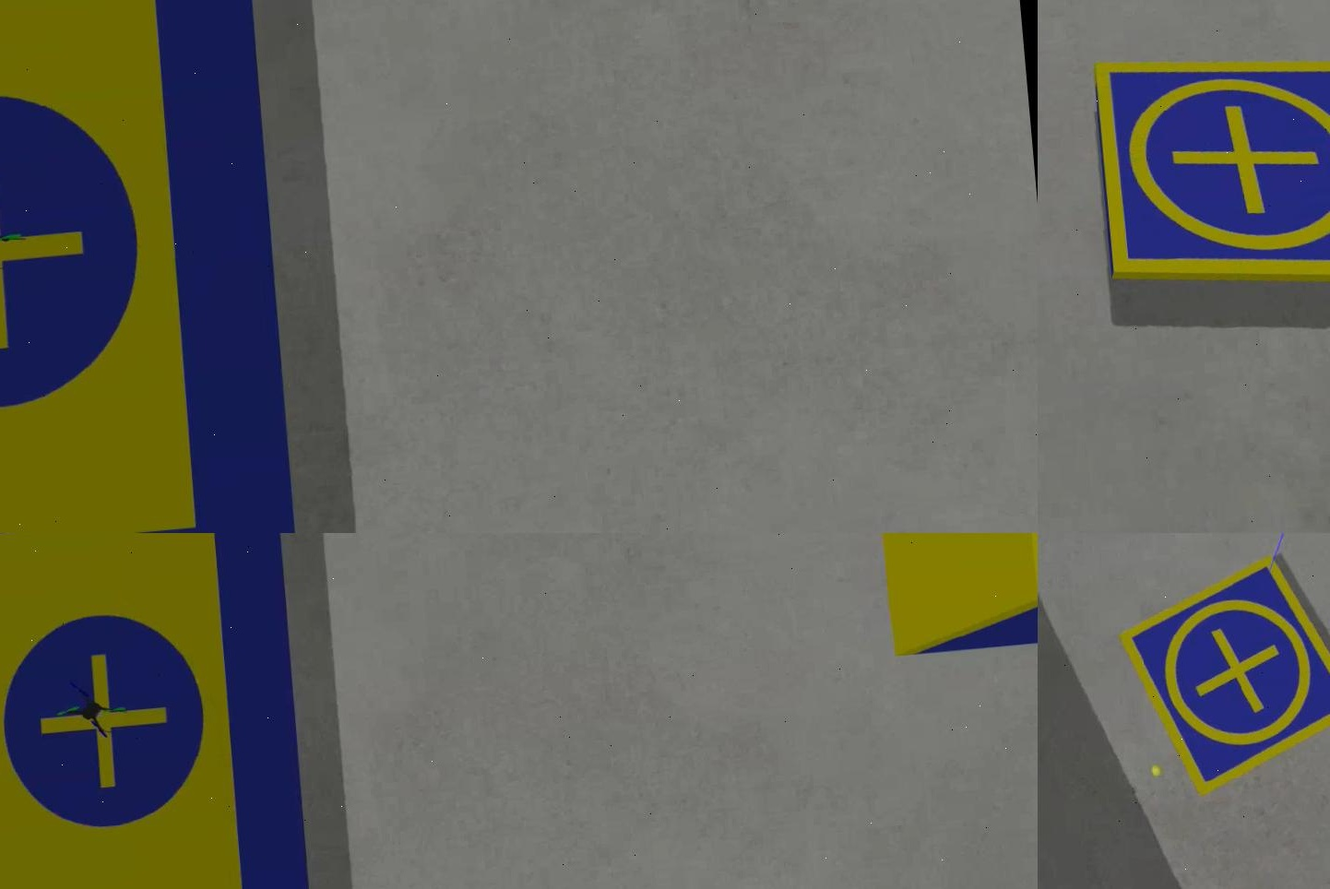large_base: (0, 1, 309, 534), (0, 534, 317, 889)
small_base: (1085, 36, 1328, 308), (1111, 552, 1328, 801)
